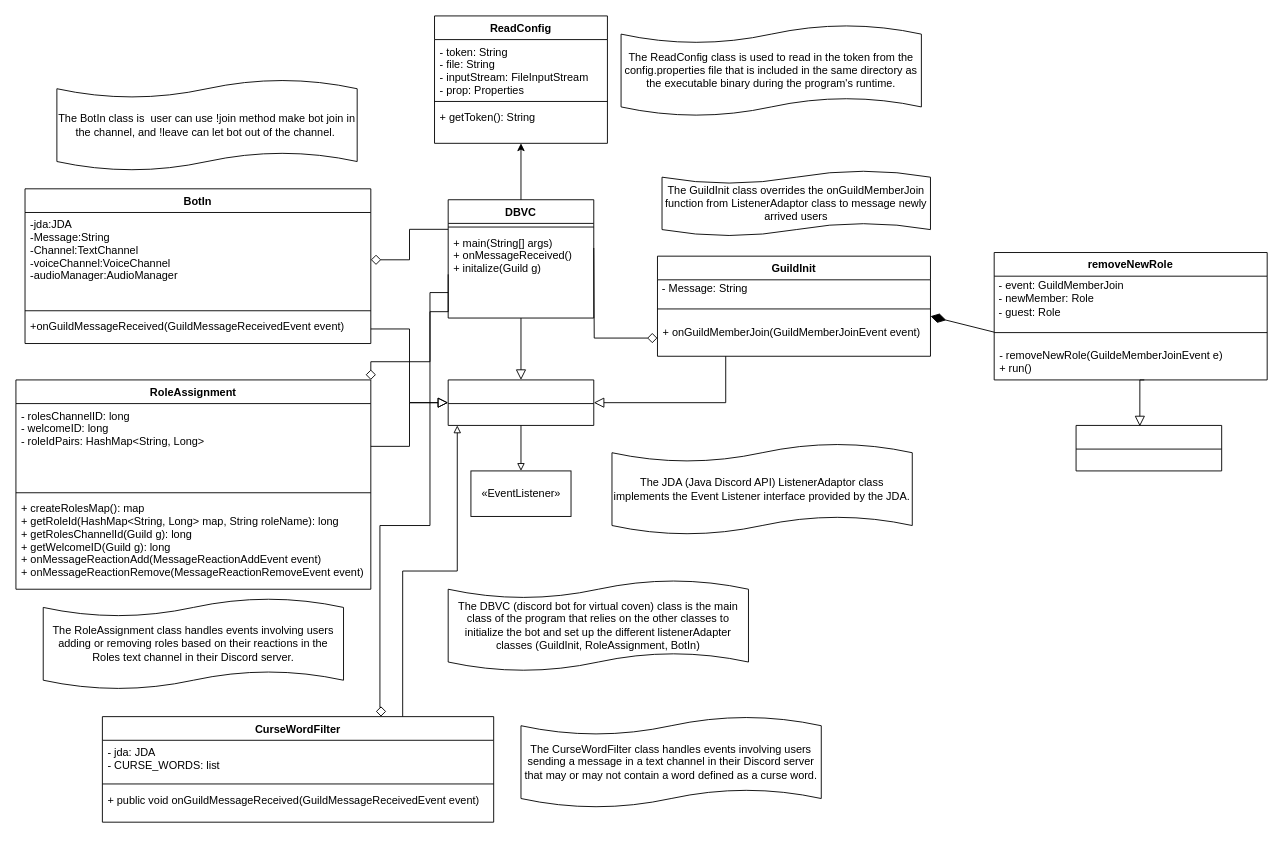
Image size: 1283x841. Some labels were removed from this diagram. Each missing label, with the centre of its shape:
ListenerAdapter: the point at 520,402
TimerTask: the point at 1148,448
